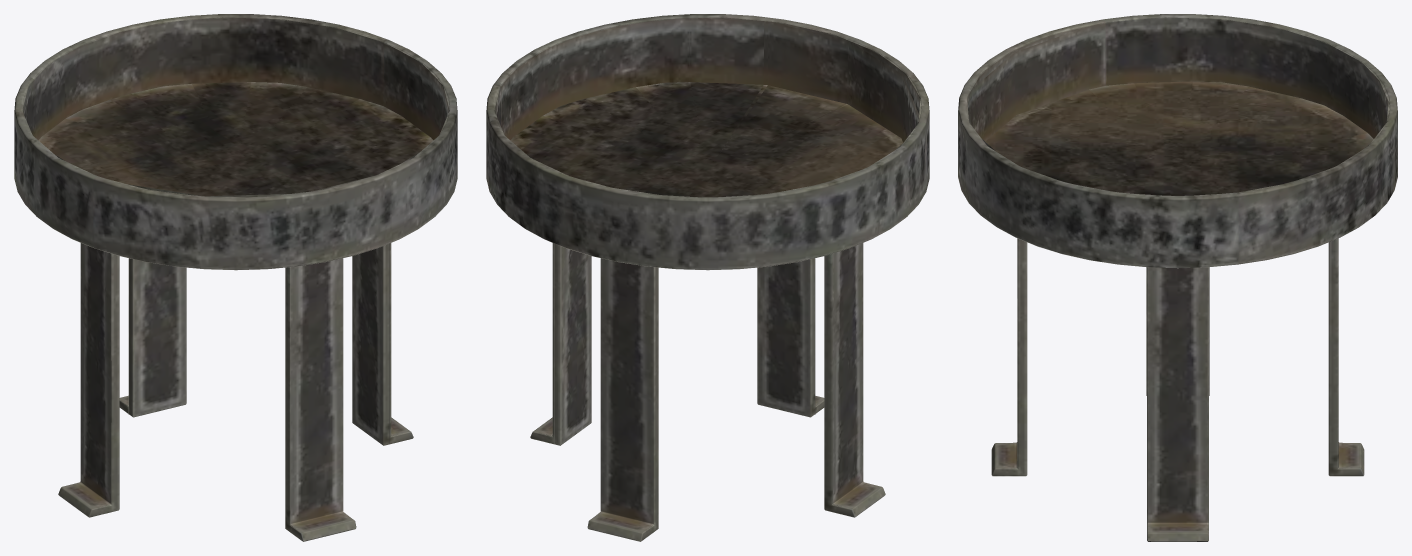
The model's file is Brazier.glb.
3 views of the same model, side by side, from view 1: azimuth 30°, elevation 25°; view 2: azimuth 150°, elevation 25°; view 3: azimuth 270°, elevation 25° (orthographic).
Visible parts, largest first — view 1: Brazier; view 2: Brazier; view 3: Brazier.
Part boxes in pixels (x1,y1,x2,y2): Brazier: [14, 14, 457, 541]; Brazier: [486, 14, 929, 541]; Brazier: [958, 14, 1397, 541].
Bounding box in the file's own units: 0.9331 × 0.8377 × 0.9337.
Materials: 1 (1 with a texture image).
